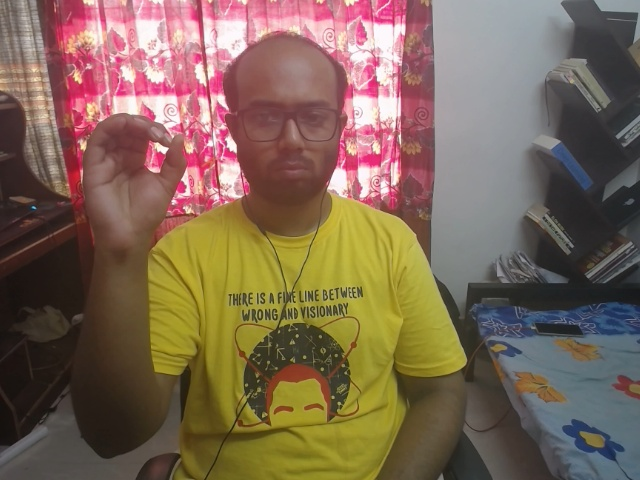zero: (64, 106, 213, 262)
